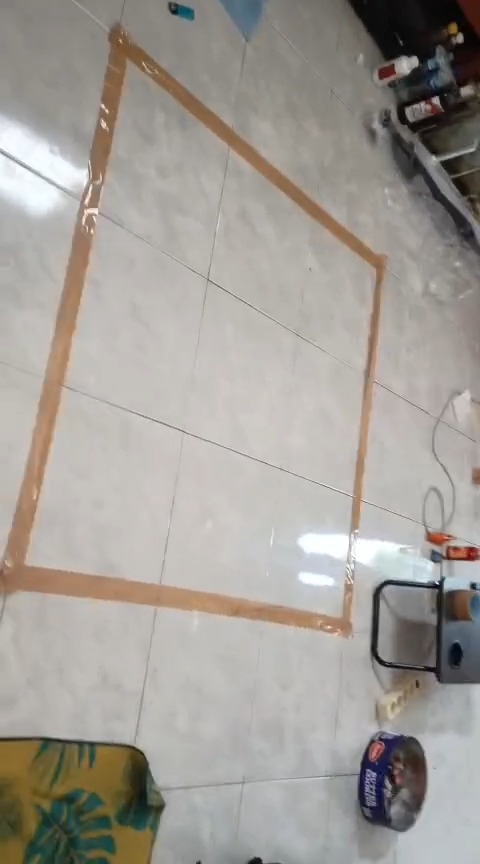floor marking: (0, 26, 385, 637)
